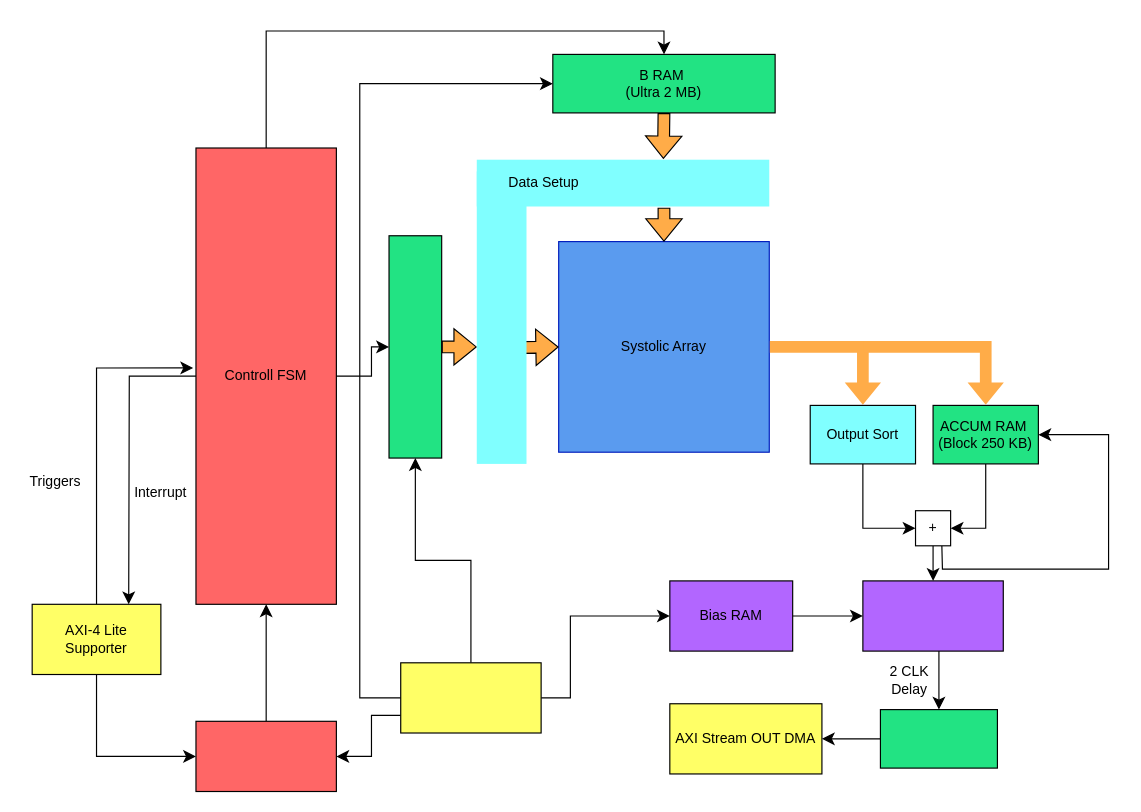
Some shapes in this 1141 by 812 pixel diagram are drawn without their labels. Here are the shapes that lost their labels. From the top down, the box of each, then its label:
(388, 235, 442, 458): A RAM (Block 256 KB)
(862, 580, 1003, 651): VPU
(400, 662, 541, 733): AXI Stream IN DMA
(195, 720, 336, 792): I RAM
(879, 708, 997, 768): C RAM (Block 250KB)
